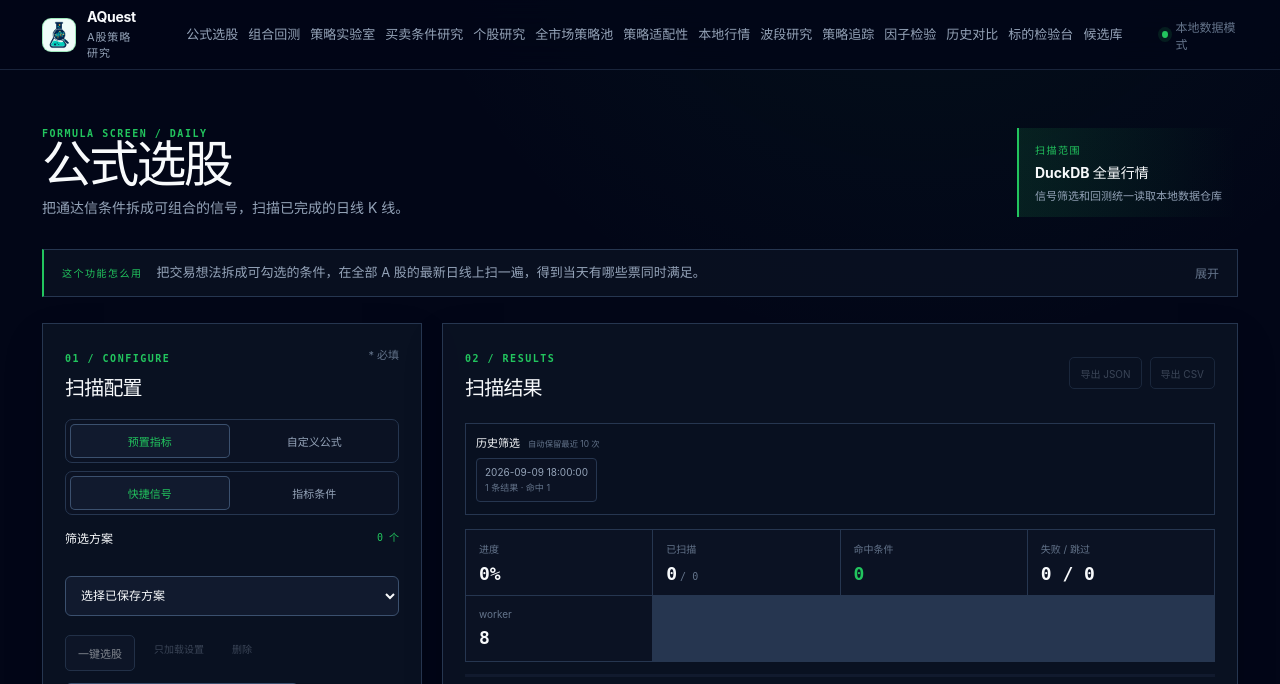
Scenario: FormulaScreenPage › lists history and expands a result with local K-line and primary indicators
Expected: the element with test id "screen-history" shows "1 条结果", x1=476 y1=458 x2=597 y2=502
Click the tab with test id "rule-mode-conditions" at [314, 492], box x1=234 y1=476 x2=394 y2=510
(page scrolled)
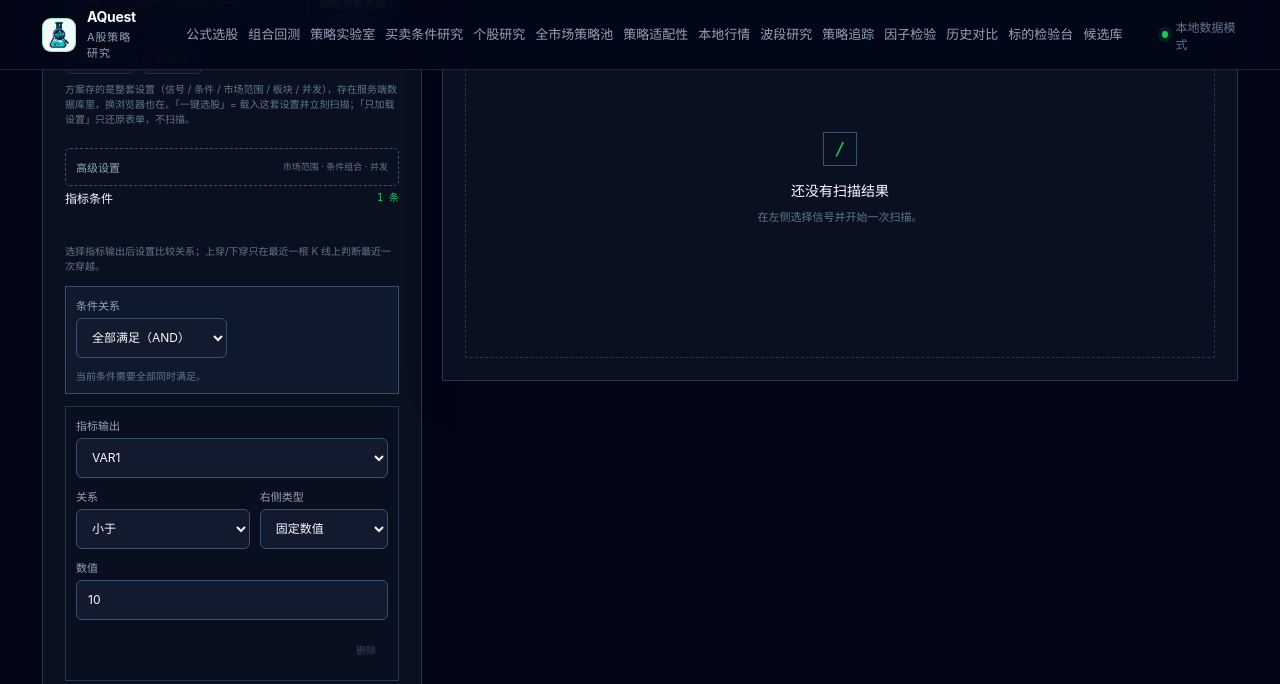
Submit the form with test id "screen-config"
(page scrolled)
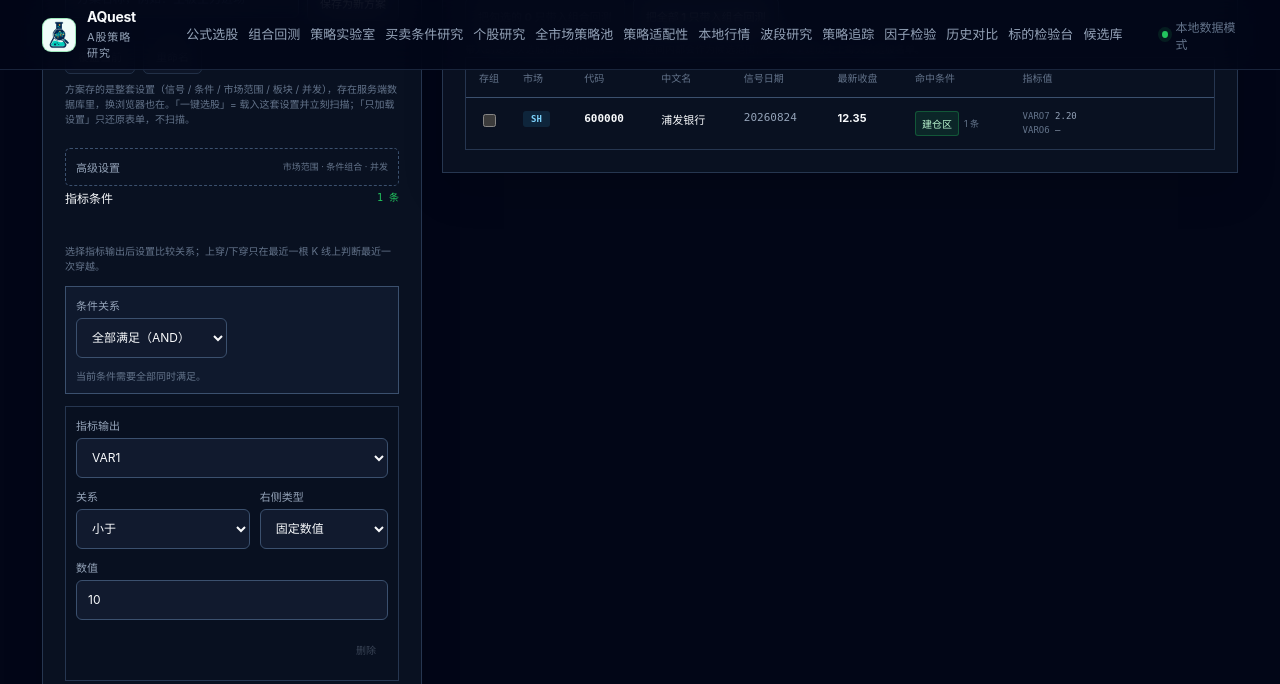
Click the button "SH 600000 浦发银行 20260824 12.35 建仓区 1 条 VARO7 2.20 VARO6 —" at [840, 123], box x1=466 y1=98 x2=1214 y2=148
(page scrolled)
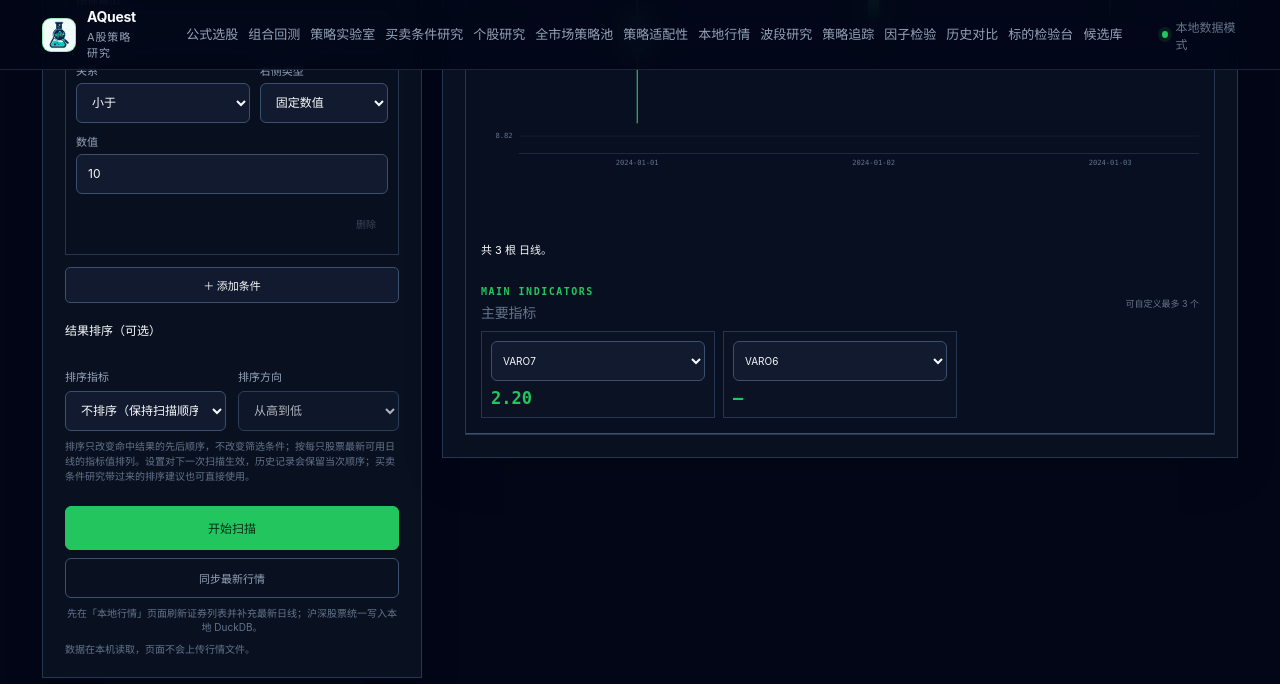
Expected: the element with test id "result-detail-SH-600000" shows "主要指标", x1=481 y1=304 x2=536 y2=320
Expected: the dropdown with test id "result-indicator-SH-600000-0" is shown, x1=491 y1=340 x2=705 y2=380
